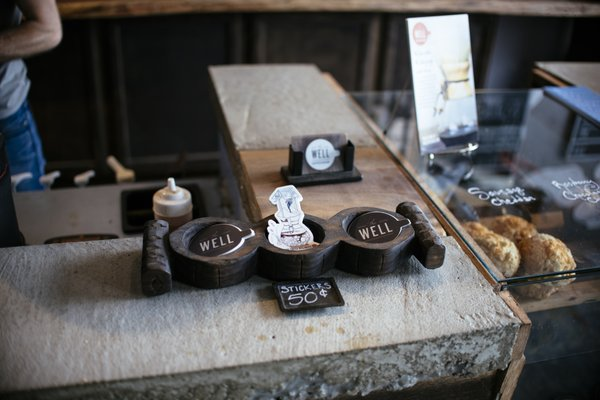salad: (466, 225, 521, 278)
